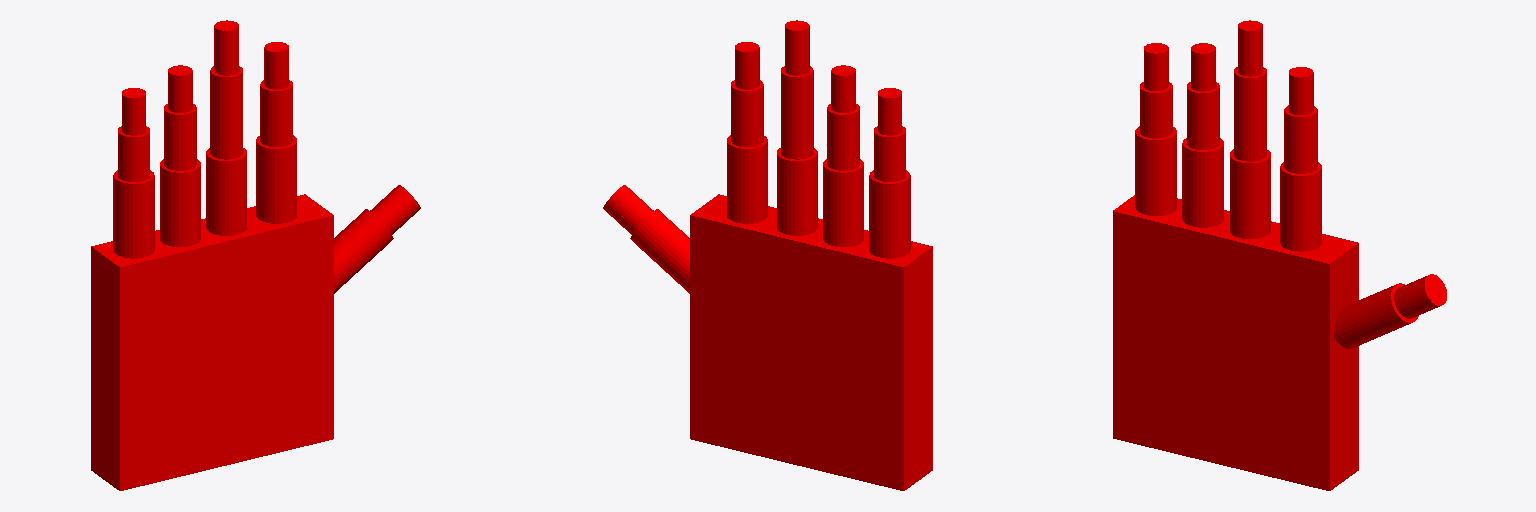
robot.urdf — hand:
<?xml version="1.0" ?>
<!-- =================================================================================== -->
<!-- |    This document was autogenerated by xacro from /home/phani/learning/src/hand.urdf.xacro | -->
<!-- |    EDITING THIS FILE BY HAND IS NOT RECOMMENDED                                 | -->
<!-- =================================================================================== -->
<robot name="hand">
  <material name="red">
    <color rgba="1 0 0 1"/>
  </material>
  <link name="base_link">
    <visual>
      <geometry>
        <box size="0.3 0.07 0.3"/>
      </geometry>
      <origin rpy="0 0 0" xyz="0 0 0.15"/>
      <material name="red"/>
    </visual>
  </link>
  <link name="finger_2_finger_link">
    <visual>
      <geometry>
        <cylinder length="0.1" radius="0.025"/>
      </geometry>
      <origin rpy="0 0 0" xyz="0 0 0.05"/>
      <material name="red"/>
    </visual>
  </link>
  <link name="finger_1_finger_link">
    <visual>
      <geometry>
        <cylinder length="0.1" radius="0.025"/>
      </geometry>
      <origin rpy="0 0 0" xyz="0 0 0.05"/>
      <material name="red"/>
    </visual>
  </link>
  <link name="finger_3_finger_link">
    <visual>
      <geometry>
        <cylinder length="0.1" radius="0.025"/>
      </geometry>
      <origin rpy="0 0 0" xyz="0 0 0.05"/>
      <material name="red"/>
    </visual>
  </link>
  <link name="finger_4_finger_link">
    <visual>
      <geometry>
        <cylinder length="0.1" radius="0.025"/>
      </geometry>
      <origin rpy="0 0 0" xyz="0 0 0.05"/>
      <material name="red"/>
    </visual>
  </link>
  <link name="thumb_finger_link">
    <visual>
      <geometry>
        <cylinder length="0.1" radius="0.025"/>
      </geometry>
      <origin rpy="0 0 0" xyz="0 0 0.05"/>
      <material name="red"/>
    </visual>
  </link>
  <link name="finger_2_centre_knuckle_finger_link">
    <visual>
      <geometry>
        <cylinder length="0.11" radius="0.02"/>
      </geometry>
      <origin rpy="0 0 0" xyz="0 0 0.055"/>
      <material name="red"/>
    </visual>
  </link>
  <link name="finger_1_centre_knuckle_finger_link">
    <visual>
      <geometry>
        <cylinder length="0.075" radius="0.02"/>
      </geometry>
      <origin rpy="0 0 0" xyz="0 0 0.0375"/>
      <material name="red"/>
    </visual>
  </link>
  <link name="finger_3_centre_knuckle_finger_link">
    <visual>
      <geometry>
        <cylinder length="0.075" radius="0.02"/>
      </geometry>
      <origin rpy="0 0 0" xyz="0 0 0.0375"/>
      <material name="red"/>
    </visual>
  </link>
  <link name="thumb_centre_knuckle_finger_link">
    <visual>
      <geometry>
        <cylinder length="0.05" radius="0.02"/>
      </geometry>
      <origin rpy="0 0 0" xyz="0 0 0.025"/>
      <material name="red"/>
    </visual>
  </link>
  <link name="finger_4_centre_knuckle_finger_link">
    <visual>
      <geometry>
        <cylinder length="0.06" radius="0.02"/>
      </geometry>
      <origin rpy="0 0 0" xyz="0 0 0.03"/>
      <material name="red"/>
    </visual>
  </link>
  <link name="finger_2_top_knuckle_finger_link">
    <visual>
      <geometry>
        <cylinder length="0.07" radius="0.015"/>
      </geometry>
      <origin rpy="0 0 0" xyz="0 0 0.025"/>
      <material name="red"/>
    </visual>
  </link>
  <link name="finger_1_top_knuckle_finger_link">
    <visual>
      <geometry>
        <cylinder length="0.05" radius="0.015"/>
      </geometry>
      <origin rpy="0 0 0" xyz="0 0 0.025"/>
      <material name="red"/>
    </visual>
  </link>
  <link name="finger_3_top_knuckle_finger_link">
    <visual>
      <geometry>
        <cylinder length="0.05" radius="0.015"/>
      </geometry>
      <origin rpy="0 0 0" xyz="0 0 0.025"/>
      <material name="red"/>
    </visual>
  </link>
  <link name="finger_4_top_knuckle_finger_link">
    <visual>
      <geometry>
        <cylinder length="0.05" radius="0.015"/>
      </geometry>
      <origin rpy="0 0 0" xyz="0 0 0.025"/>
      <material name="red"/>
    </visual>
  </link>
  <joint name="finger_2_top_knuckle_finger_joint" type="revolute">
    <parent link="finger_2_centre_knuckle_finger_link"/>
    <child link="finger_2_top_knuckle_finger_link"/>
    <origin rpy="0 0 0" xyz="0 0 0.11"/>
    <axis xyz="1 0 0"/>
    <limit effort="0" lower="0.0" upper="1.57" velocity="0"/>
    <mimic joint="finger_2_centre_knuckle_finger_joint" multiplier="1.5" offset="0"/>
  </joint>
  <joint name="finger_1_top_knuckle_finger_joint" type="revolute">
    <parent link="finger_1_centre_knuckle_finger_link"/>
    <child link="finger_1_top_knuckle_finger_link"/>
    <origin rpy="0 0 0" xyz="0 0 0.075"/>
    <axis xyz="1 0 0"/>
    <limit effort="0" lower="0.0" upper="1.57" velocity="0"/>
    <mimic joint="finger_1_centre_knuckle_finger_joint" multiplier="1.5" offset="0"/>
  </joint>
  <joint name="finger_3_top_knuckle_finger_joint" type="revolute">
    <parent link="finger_3_centre_knuckle_finger_link"/>
    <child link="finger_3_top_knuckle_finger_link"/>
    <origin rpy="0 0 0" xyz="0 0 0.075"/>
    <axis xyz="1 0 0"/>
    <limit effort="0" lower="0.0" upper="1.57" velocity="0"/>
    <mimic joint="finger_3_centre_knuckle_finger_joint" multiplier="1.5" offset="0"/>
  </joint>
  <joint name="finger_4_top_knuckle_finger_joint" type="revolute">
    <parent link="finger_4_centre_knuckle_finger_link"/>
    <child link="finger_4_top_knuckle_finger_link"/>
    <origin rpy="0 0 0" xyz="0 0 0.06"/>
    <axis xyz="1 0 0"/>
    <limit effort="0" lower="0.0" upper="1.57" velocity="0"/>
    <mimic joint="finger_4_centre_knuckle_finger_joint" multiplier="1.5" offset="0"/>
  </joint>
  <joint name="finger_2_centre_knuckle_finger_joint" type="revolute">
    <parent link="finger_2_finger_link"/>
    <child link="finger_2_centre_knuckle_finger_link"/>
    <origin rpy="0 0 0" xyz="0 0 0.1"/>
    <axis xyz="1 0 0"/>
    <limit effort="0" lower="0.0" upper="1.57" velocity="0"/>
    <mimic joint="base_finger_2_finger_joint" multiplier="1.5" offset="0"/>
  </joint>
  <joint name="finger_1_centre_knuckle_finger_joint" type="revolute">
    <parent link="finger_1_finger_link"/>
    <child link="finger_1_centre_knuckle_finger_link"/>
    <origin rpy="0 0 0" xyz="0 0 0.1"/>
    <axis xyz="1 0 0"/>
    <limit effort="0" lower="0.0" upper="1.57" velocity="0"/>
    <mimic joint="base_finger_1_finger_joint" multiplier="1.5" offset="0"/>
  </joint>
  <joint name="finger_3_centre_knuckle_finger_joint" type="revolute">
    <parent link="finger_3_finger_link"/>
    <child link="finger_3_centre_knuckle_finger_link"/>
    <origin rpy="0 0 0" xyz="0 0 0.1"/>
    <axis xyz="1 0 0"/>
    <limit effort="0" lower="0.0" upper="1.57" velocity="0"/>
    <mimic joint="base_finger_3_finger_joint" multiplier="1.5" offset="0"/>
  </joint>
  <joint name="finger_4_centre_knuckle_finger_joint" type="revolute">
    <parent link="finger_4_finger_link"/>
    <child link="finger_4_centre_knuckle_finger_link"/>
    <origin rpy="0 0 0" xyz="0 0 0.1"/>
    <axis xyz="1 0 0"/>
    <limit effort="0" lower="0.0" upper="1.57" velocity="0"/>
    <mimic joint="base_finger_4_finger_joint" multiplier="1.5" offset="0"/>
  </joint>
  <joint name="thumb_centre_knuckle_finger_joint" type="revolute">
    <parent link="thumb_finger_link"/>
    <child link="thumb_centre_knuckle_finger_link"/>
    <origin rpy="0 0 0" xyz="0 0 0.1"/>
    <axis xyz="1 0 0"/>
    <limit effort="0" lower="0.0" upper="1.57" velocity="0"/>
    <mimic joint="base_thumb_finger_joint" multiplier="1.5" offset="0"/>
  </joint>
  <joint name="base_finger_2_finger_joint" type="revolute">
    <parent link="base_link"/>
    <child link="finger_2_finger_link"/>
    <origin rpy="0 0 0" xyz="0.02 0 0.3"/>
    <axis xyz="1 0 0"/>
    <limit effort="0" lower="0.0" upper="1.57" velocity="0"/>
  </joint>
  <joint name="base_finger_1_finger_joint" type="revolute">
    <parent link="base_link"/>
    <child link="finger_1_finger_link"/>
    <origin rpy="0 0 0" xyz="0.09 0 0.3"/>
    <axis xyz="1 0 0"/>
    <limit effort="0" lower="0.0" upper="1.57" velocity="0"/>
  </joint>
  <joint name="base_finger_3_finger_joint" type="revolute">
    <parent link="base_link"/>
    <child link="finger_3_finger_link"/>
    <origin rpy="0 0 0" xyz="-0.045 0 0.3"/>
    <axis xyz="1 0 0"/>
    <limit effort="0" lower="0.0" upper="1.57" velocity="0"/>
  </joint>
  <joint name="base_finger_4_finger_joint" type="revolute">
    <parent link="base_link"/>
    <child link="finger_4_finger_link"/>
    <origin rpy="0 0 0" xyz="-0.11 0 0.3"/>
    <axis xyz="1 0 0"/>
    <limit effort="0" lower="0.0" upper="1.57" velocity="0"/>
  </joint>
  <joint name="base_thumb_finger_joint" type="revolute">
    <parent link="base_link"/>
    <child link="thumb_finger_link"/>
    <origin rpy="0 1 0" xyz="0.15 0 0.2"/>
    <axis xyz="1 0 0"/>
    <limit effort="0" lower="0.0" upper="1.57" velocity="0"/>
  </joint>
</robot>

--- Facts derived from the render (not from the file) ---
The picture shows the robot from 3 angles, left to right: view 1: azimuth 30°, elevation 25°; view 2: azimuth 150°, elevation 25°; view 3: azimuth 330°, elevation 25°; orthographic projection.
Model hand with 15 links and 14 joints (14 revolute), rooted at base_link, posed all joints at 0.
Links seen in each view (by area): view 1: base_link, finger_4_finger_link, finger_1_finger_link, finger_2_finger_link, finger_3_finger_link, finger_2_centre_knuckle_finger_link, thumb_finger_link, finger_3_centre_knuckle_finger_link, finger_1_centre_knuckle_finger_link, finger_4_centre_knuckle_finger_link, finger_2_top_knuckle_finger_link, thumb_centre_knuckle_finger_link (+3 smaller); view 2: base_link, finger_4_finger_link, finger_1_finger_link, finger_2_finger_link, finger_3_finger_link, finger_2_centre_knuckle_finger_link, thumb_finger_link, finger_3_centre_knuckle_finger_link, finger_1_centre_knuckle_finger_link, finger_4_centre_knuckle_finger_link, finger_2_top_knuckle_finger_link, thumb_centre_knuckle_finger_link (+3 smaller); view 3: base_link, finger_3_finger_link, finger_4_finger_link, finger_1_finger_link, finger_2_finger_link, finger_2_centre_knuckle_finger_link, thumb_finger_link, finger_1_centre_knuckle_finger_link, finger_3_centre_knuckle_finger_link, thumb_centre_knuckle_finger_link, finger_4_centre_knuckle_finger_link, finger_2_top_knuckle_finger_link (+3 smaller).
Link boxes in pixels (x1,y1,x2,y2): base_link: (91, 194, 333, 490); finger_4_finger_link: (113, 170, 154, 258); finger_1_finger_link: (256, 135, 296, 223); finger_2_finger_link: (206, 148, 246, 235); finger_3_finger_link: (160, 159, 200, 246); finger_2_centre_knuckle_finger_link: (210, 66, 242, 159); thumb_finger_link: (334, 209, 393, 293); finger_3_centre_knuckle_finger_link: (164, 104, 196, 170); finger_1_centre_knuckle_finger_link: (260, 80, 292, 146); finger_4_centre_knuckle_finger_link: (118, 126, 149, 181); finger_2_top_knuckle_finger_link: (214, 20, 238, 75); thumb_centre_knuckle_finger_link: (370, 185, 420, 234); base_link: (690, 194, 932, 490); finger_4_finger_link: (869, 170, 910, 258); finger_1_finger_link: (727, 135, 767, 223); finger_2_finger_link: (777, 148, 817, 235); finger_3_finger_link: (823, 159, 863, 246); finger_2_centre_knuckle_finger_link: (781, 66, 813, 159); thumb_finger_link: (630, 209, 689, 293); finger_3_centre_knuckle_finger_link: (827, 104, 859, 170); finger_1_centre_knuckle_finger_link: (731, 80, 763, 146); finger_4_centre_knuckle_finger_link: (874, 126, 905, 181); finger_2_top_knuckle_finger_link: (785, 20, 809, 75); thumb_centre_knuckle_finger_link: (603, 185, 653, 234); base_link: (1113, 195, 1358, 490); finger_3_finger_link: (1182, 138, 1223, 227); finger_4_finger_link: (1135, 126, 1176, 215); finger_1_finger_link: (1280, 162, 1321, 251); finger_2_finger_link: (1230, 149, 1270, 238); finger_2_centre_knuckle_finger_link: (1234, 67, 1266, 161); thumb_finger_link: (1334, 283, 1418, 348); finger_1_centre_knuckle_finger_link: (1284, 105, 1317, 173); finger_3_centre_knuckle_finger_link: (1187, 82, 1219, 149); thumb_centre_knuckle_finger_link: (1394, 274, 1446, 318); finger_4_centre_knuckle_finger_link: (1140, 82, 1172, 138); finger_2_top_knuckle_finger_link: (1238, 20, 1262, 76).
Bounding box of the posed robot: 0.437 × 0.07 × 0.57 m (x, y, z).
Geometry: primitives only (box / cylinder / sphere), no mesh files.
